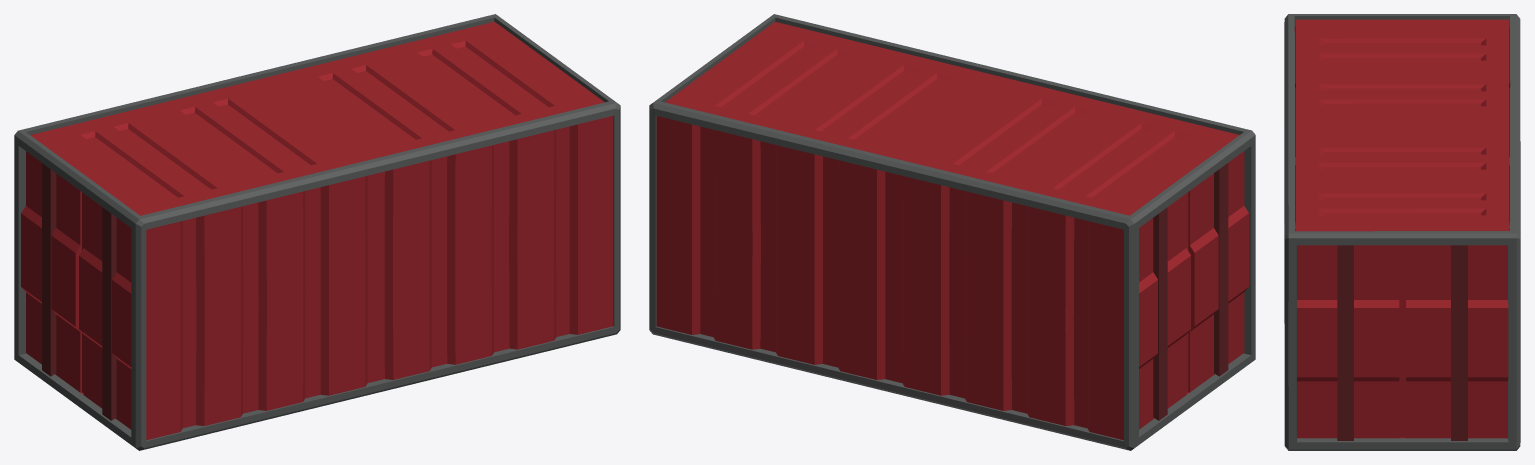
File: quaternius-zombie-apocalypse-kit-march-container-red.glb
3 renders of one model, left to right at view 1: azimuth 30°, elevation 25°; view 2: azimuth 150°, elevation 25°; view 3: azimuth 270°, elevation 25°, orthographic. The views are drawn at different scales.
Parts seen in each view (by area): view 1: Container_Red; view 2: Container_Red; view 3: Container_Red.
Boxes of the visible parts, x1,y1,x2,y2 form: Container_Red: (14, 14, 620, 450); Container_Red: (649, 14, 1255, 450); Container_Red: (1284, 14, 1520, 450).
Size of the model in its own units: 5.71 by 2.6 by 2.56.
Materials: 1 (1 with a texture image).
